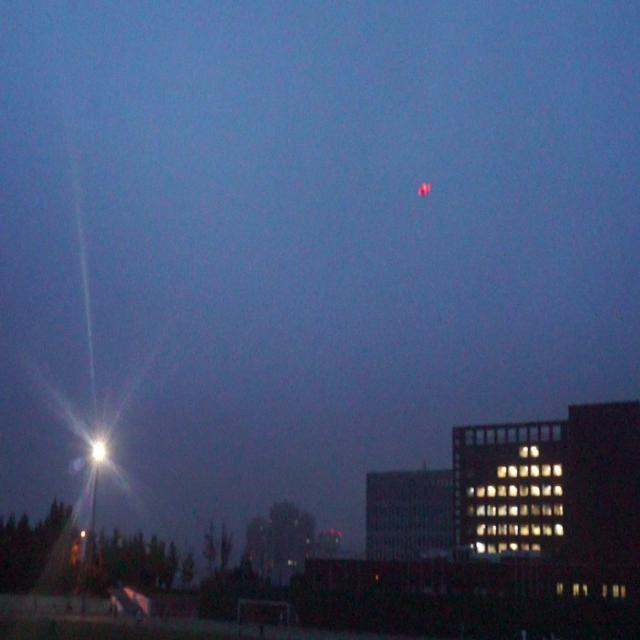UAV: (418, 182, 431, 197)
